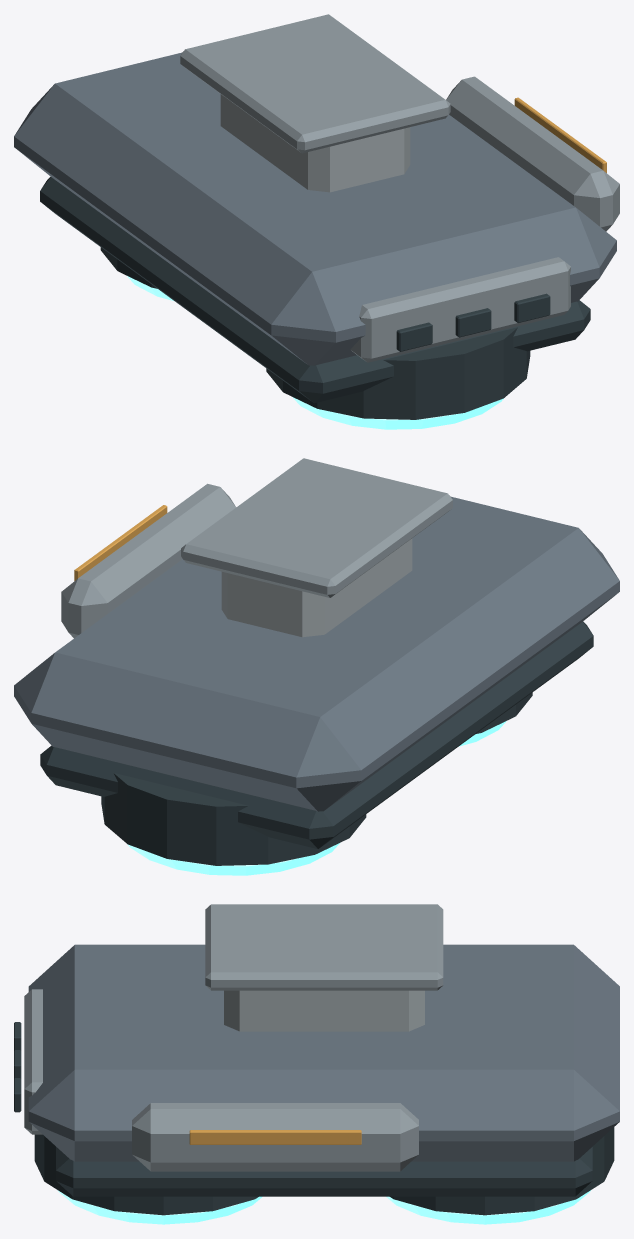
File: CGS_HoverPad_R.fbx
The picture shows the model from 3 angles, top to bottom: view 1: azimuth 30°, elevation 25°; view 2: azimuth 150°, elevation 25°; view 3: azimuth 270°, elevation 25°; orthographic projection. The views are drawn at different scales.
Parts seen in each view (by area): view 1: CGS_HoverPad_R; view 2: CGS_HoverPad_R; view 3: CGS_HoverPad_R.
Part boxes in pixels (x1,y1,x2,y2): CGS_HoverPad_R: (14, 14, 619, 429); CGS_HoverPad_R: (14, 458, 619, 875); CGS_HoverPad_R: (14, 904, 619, 1224).
Size of the model in its own units: 154 by 92.23 by 211.
